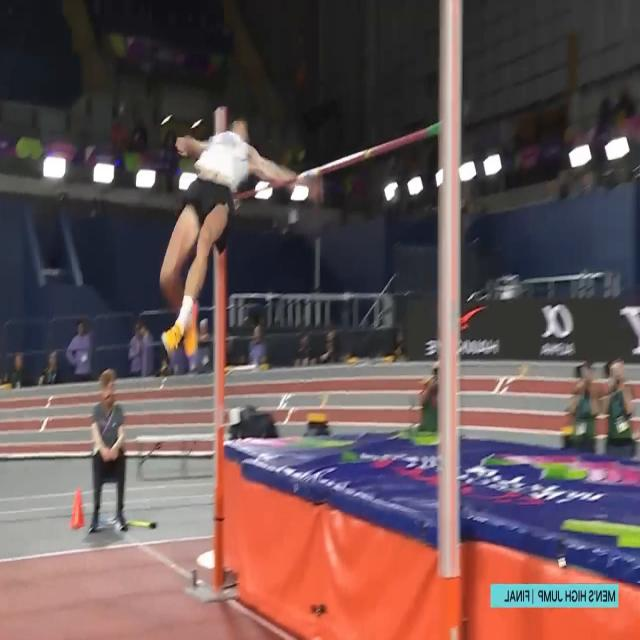jump: (159, 122, 319, 359)
